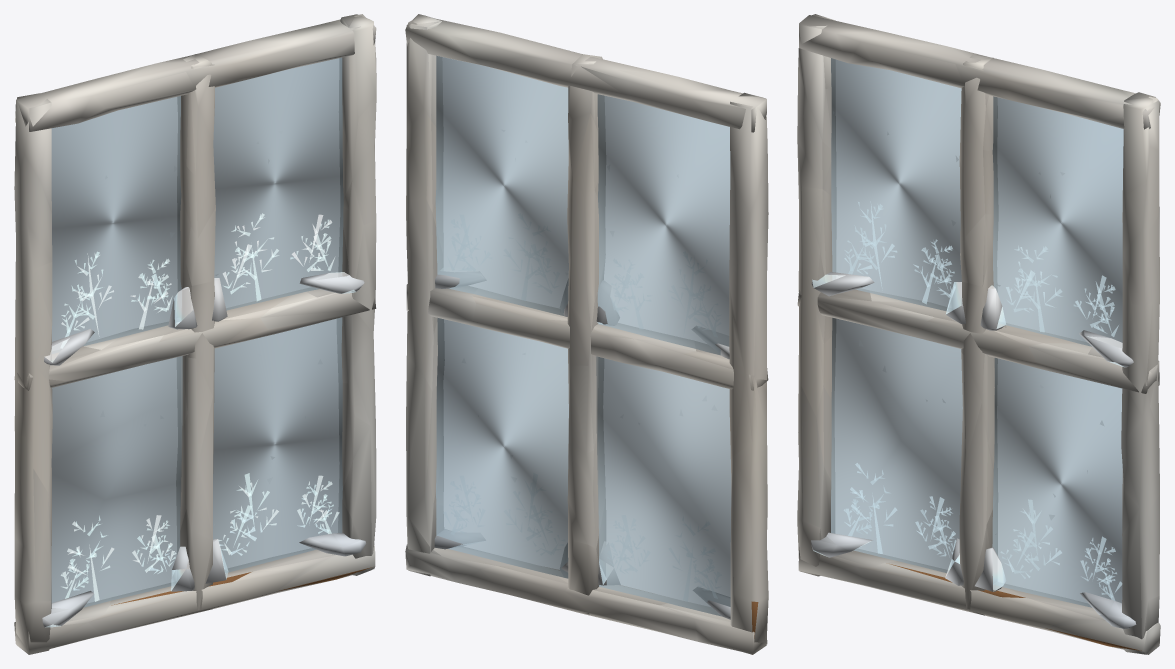
The model's file is frost_window_pane_lod2.glb.
3 renders of one model, left to right at view 1: azimuth 30°, elevation 25°; view 2: azimuth 150°, elevation 25°; view 3: azimuth 330°, elevation 25°, orthographic.
Visible parts, largest first — view 1: frost_window_pane.001; view 2: frost_window_pane.001; view 3: frost_window_pane.001.
Boxes of the visible parts, bbox=[...] form: frost_window_pane.001: bbox=[14, 14, 376, 654]; frost_window_pane.001: bbox=[405, 14, 768, 654]; frost_window_pane.001: bbox=[797, 14, 1160, 654].
Bounding box in the file's own units: 40.34 × 60.23 × 3.83.
